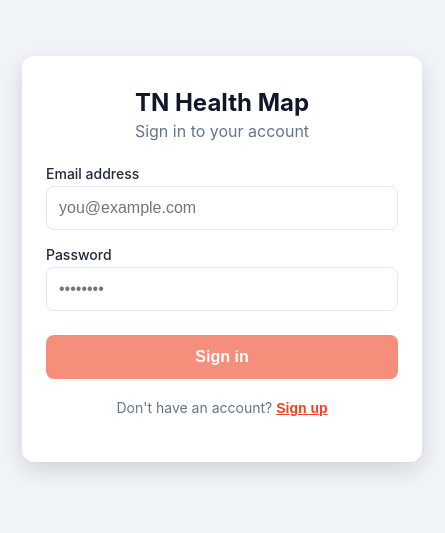
Test: LoginForm › shows a confirmation message and returns to login mode after successful sign-up
Click the button "Sign up" at (302, 408), box [276,400,328,416]
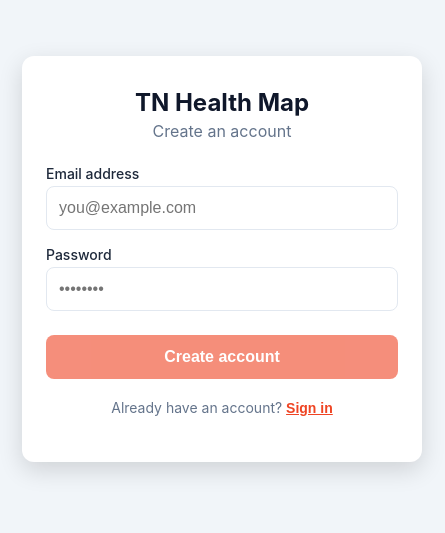
Type "new@example.com" into the field labelled "Email address" at (222, 208), box [46,186,398,230]
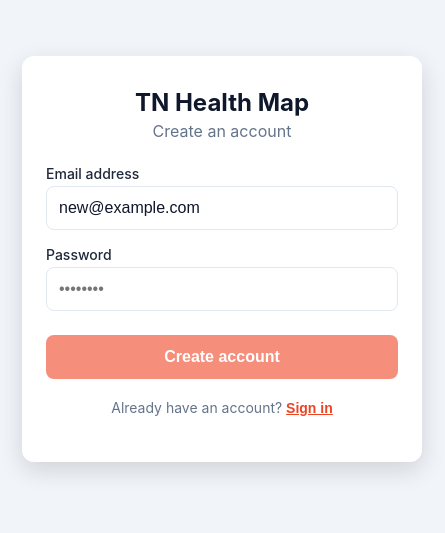
Type "newpassword" into the password field labelled "Password" at (222, 289), box [46,267,398,311]
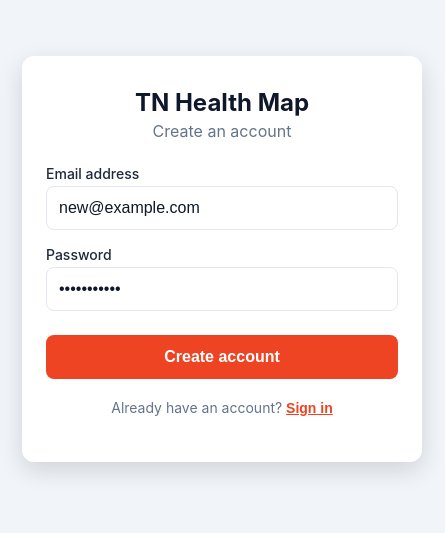
Click the button "Create account" at (222, 357), box [46,335,398,379]
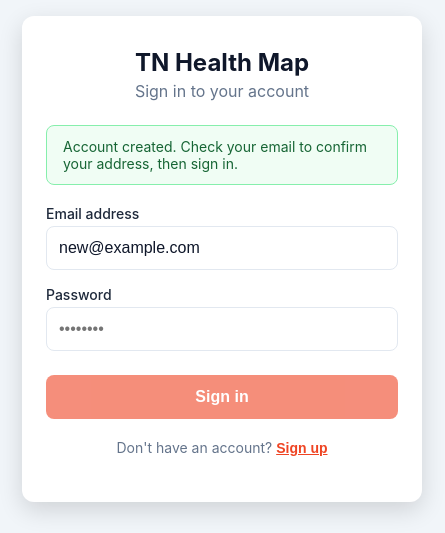
Expected: the message shows "Check your email", [63,138,367,172]
Expected: the heading "Sign in to your account" is shown, [135,81,309,101]
